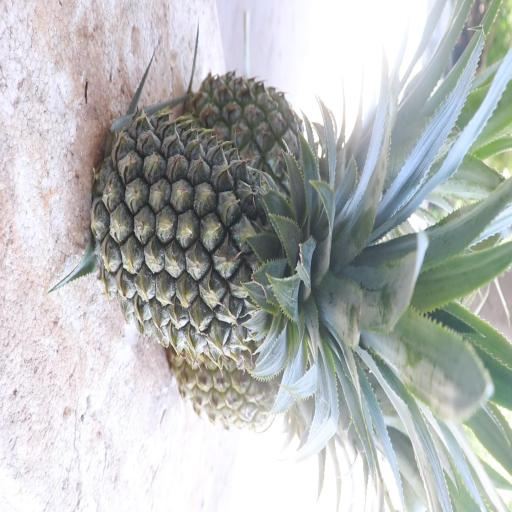------------------------------: (166, 344, 415, 473)
